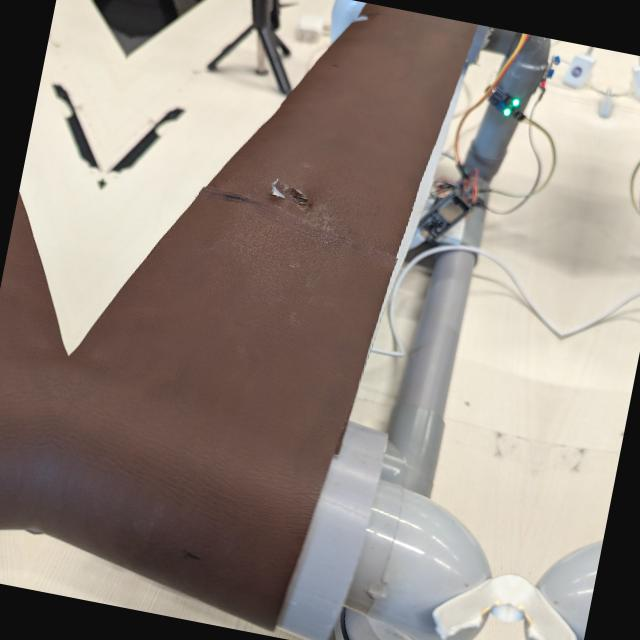joint_damage: (249, 152, 315, 219)
